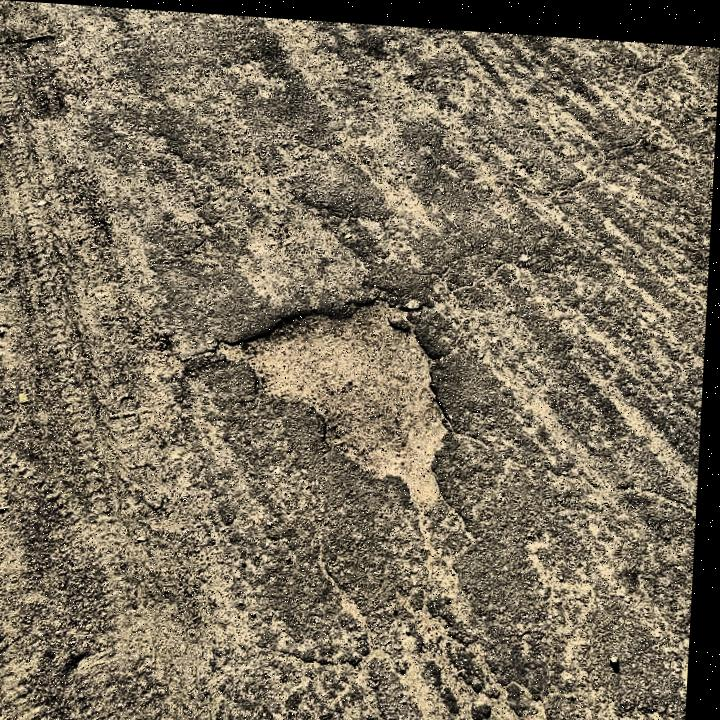pothole: (208, 280, 466, 498)
